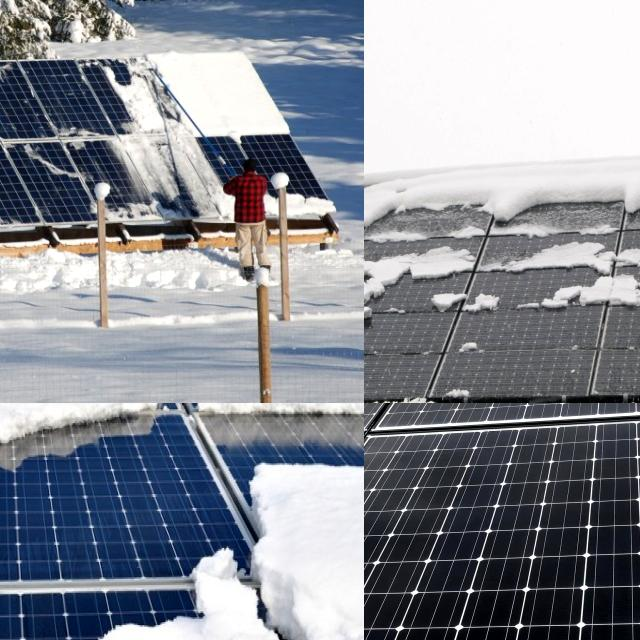crack: (364, 539, 515, 640), (488, 487, 640, 576), (364, 453, 486, 528), (449, 595, 640, 640), (468, 403, 640, 444), (495, 403, 640, 437), (518, 403, 640, 434)
panel: (232, 449, 364, 640), (0, 457, 89, 640), (0, 403, 168, 481), (373, 236, 501, 335), (157, 52, 290, 136), (100, 140, 232, 213), (84, 54, 186, 133), (172, 403, 364, 444), (192, 403, 364, 446), (474, 148, 590, 211), (364, 170, 468, 237), (0, 159, 87, 235), (364, 239, 407, 391), (514, 213, 640, 263), (530, 269, 640, 324), (14, 124, 67, 215), (434, 332, 498, 399), (269, 170, 321, 218), (600, 148, 640, 202), (0, 403, 76, 425), (0, 57, 37, 84), (0, 187, 16, 240)
